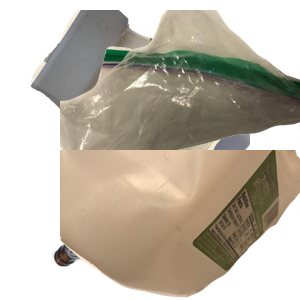glass: (49, 145, 229, 300)
paper: (28, 10, 268, 190)
plastic: (60, 150, 300, 300)
trash: (60, 10, 300, 176)
